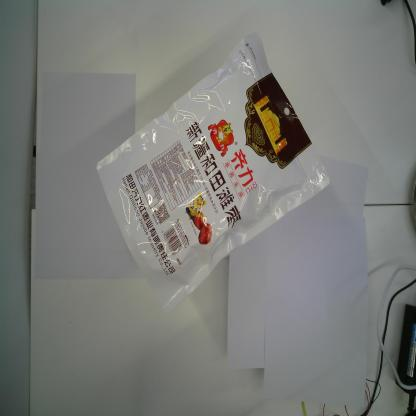Dried Food: (94, 29, 333, 315)
